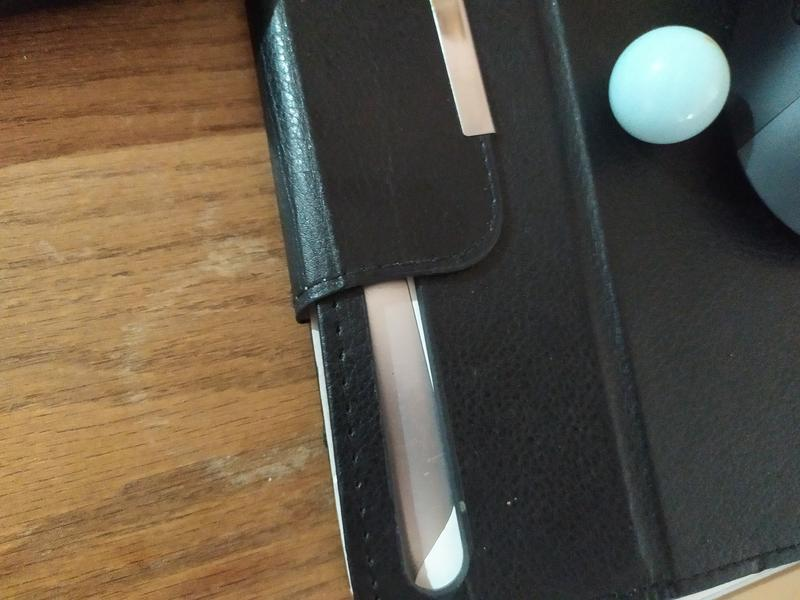Warning: (606, 24, 734, 147)
